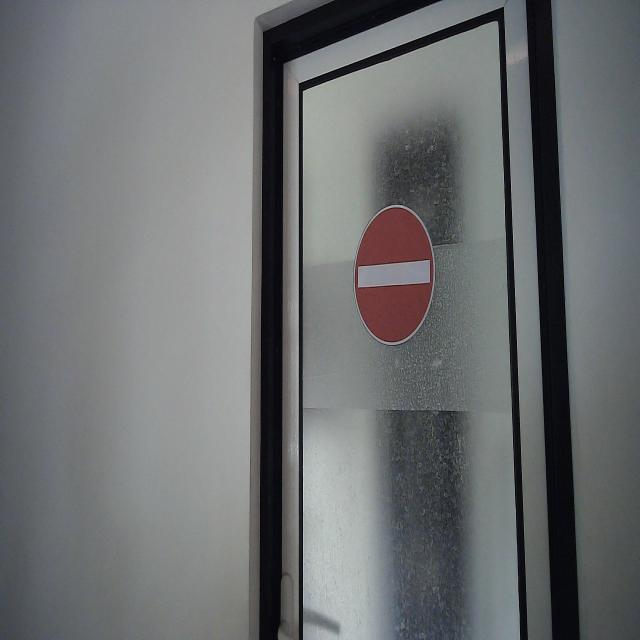no_entry: (352, 202, 437, 346)
